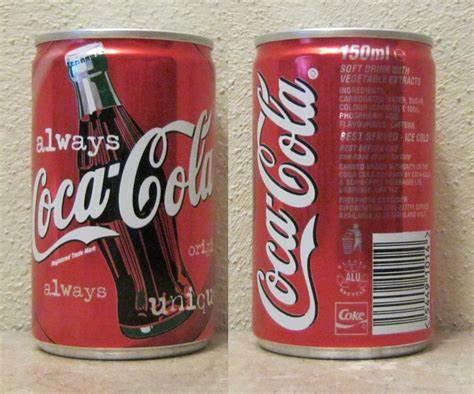metal: (32, 29, 216, 360), (254, 28, 436, 359)
